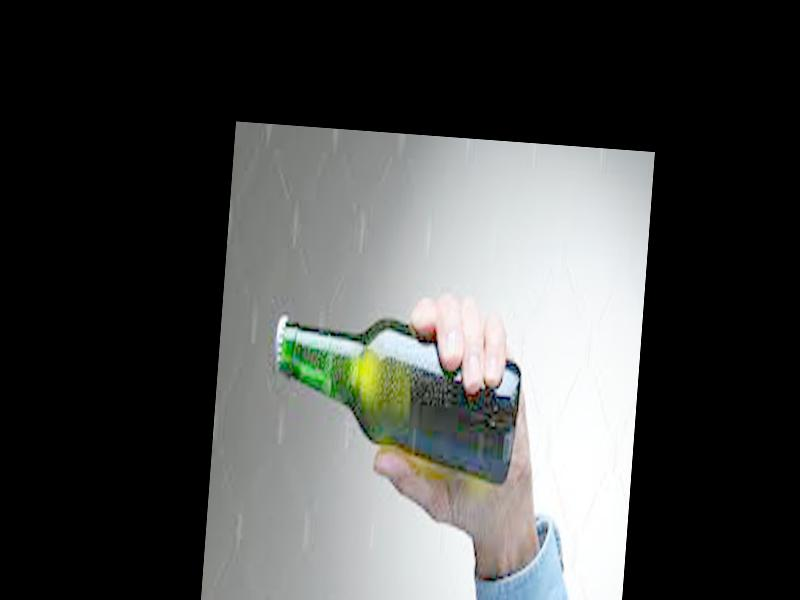Beer: (262, 311, 526, 488)
